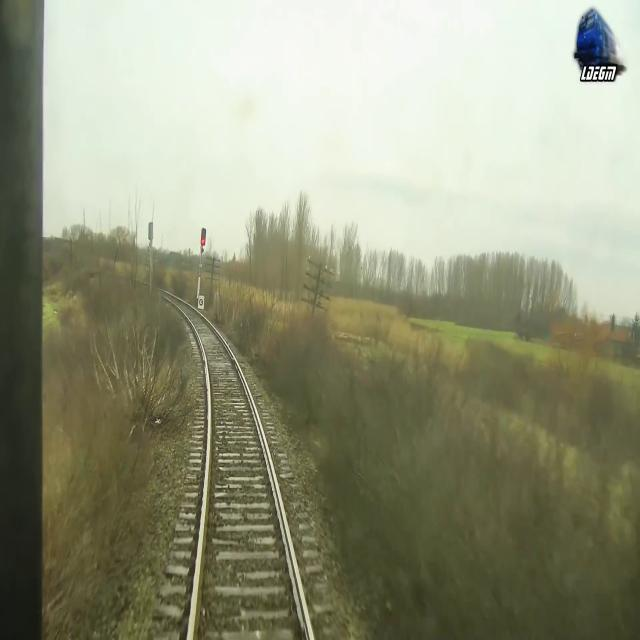rail-track: (152, 285, 310, 639)
